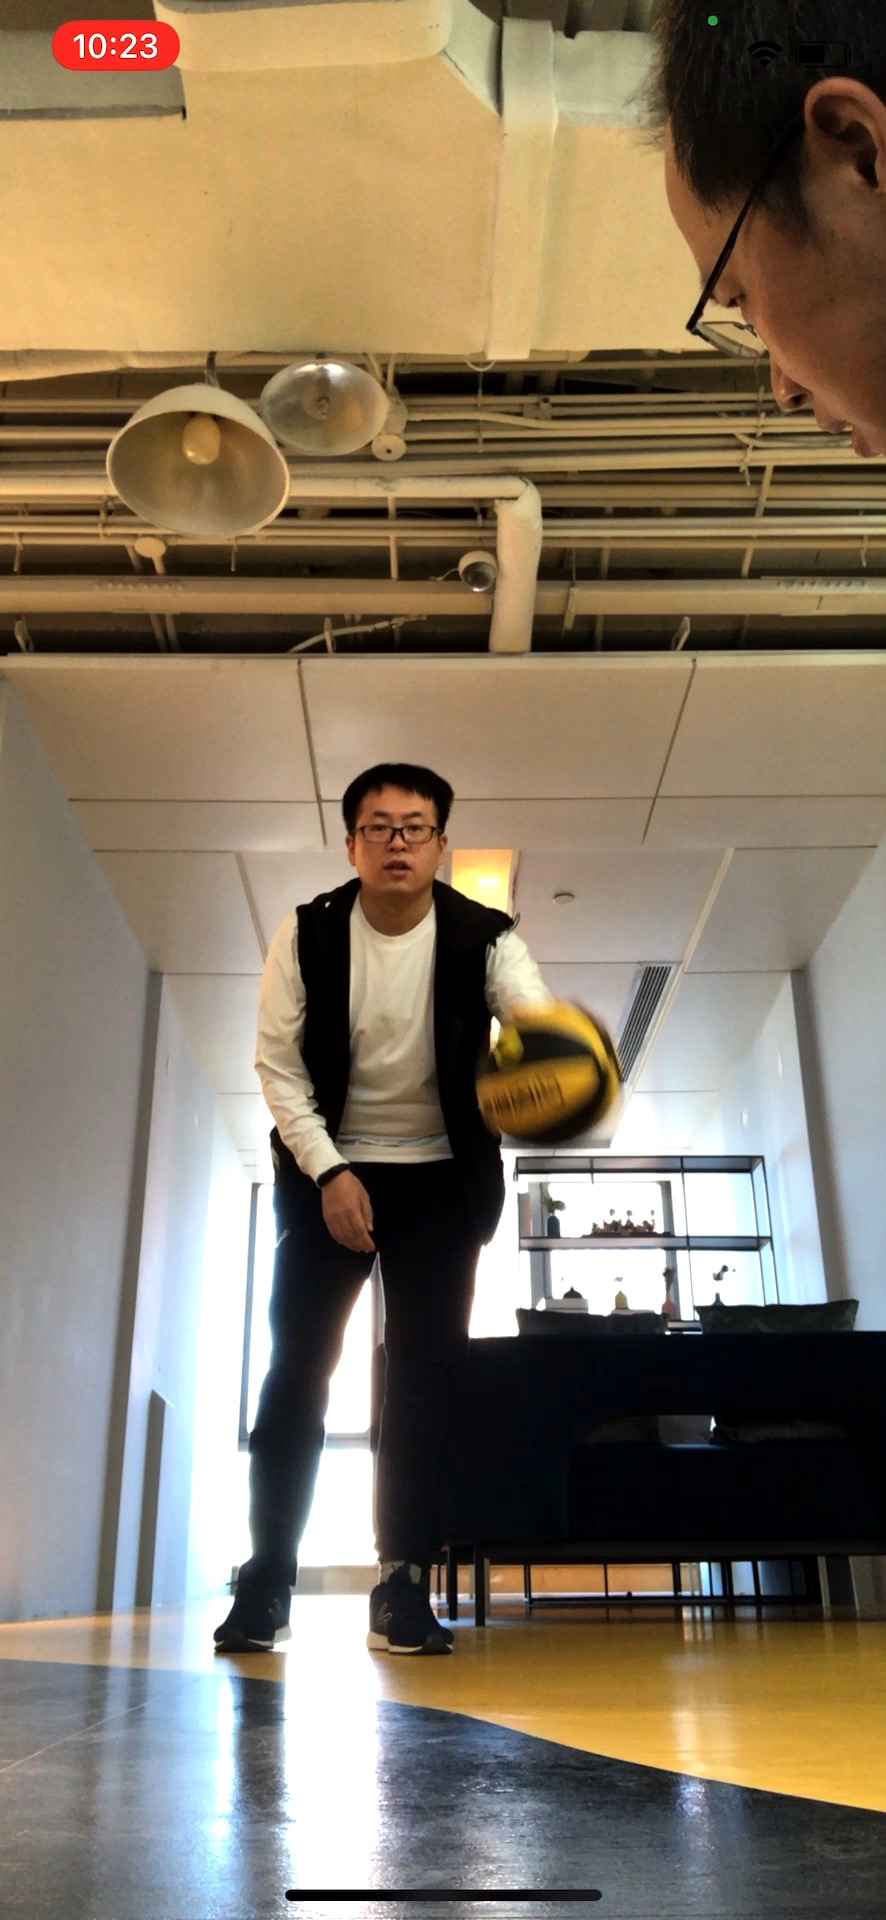ball: (476, 1008, 625, 1142)
